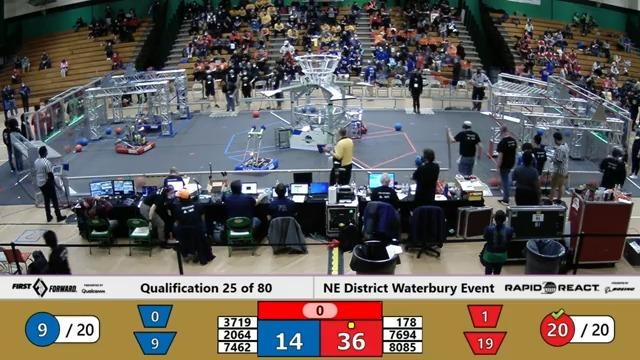robot: (229, 118, 284, 181), (519, 130, 573, 188), (131, 82, 171, 134), (328, 93, 372, 139), (111, 124, 158, 160)
